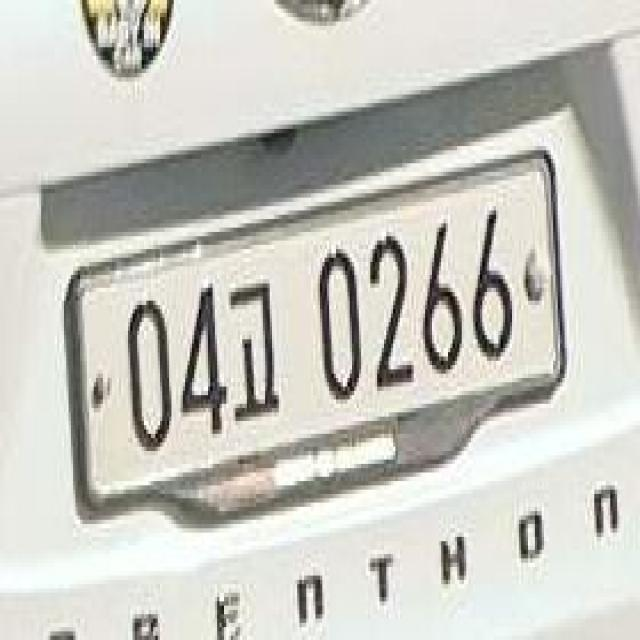illegal_plate: (72, 142, 562, 525)
